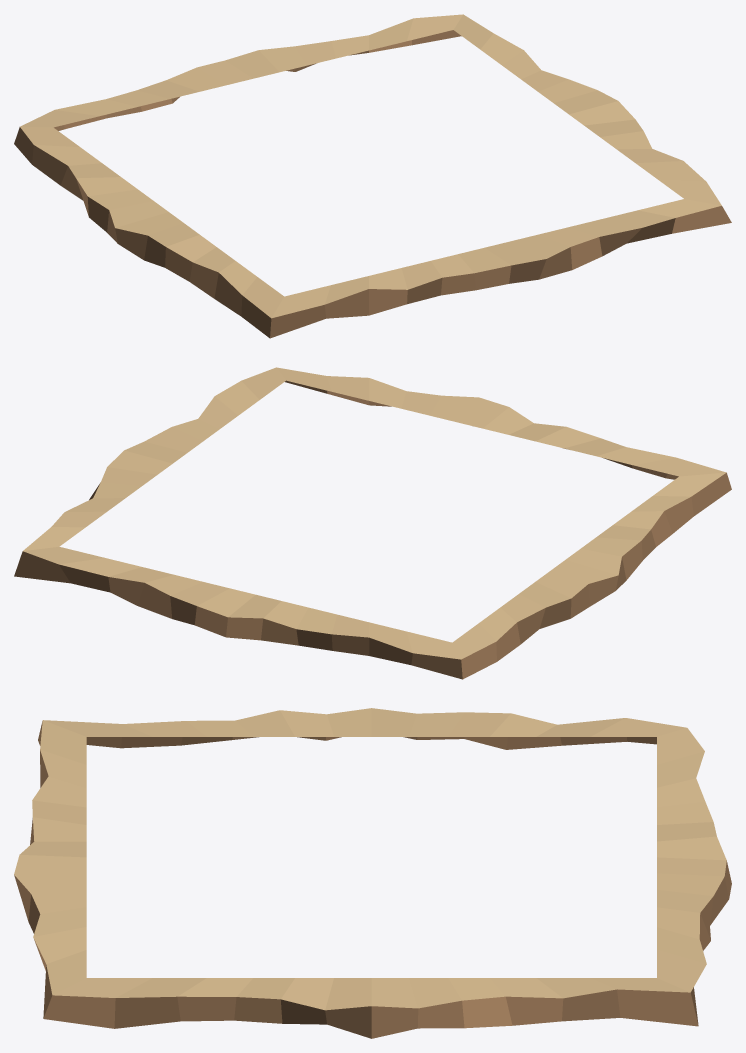
File: entorno_16.glb
3 renders of one model, top to bottom at view 1: azimuth 30°, elevation 25°; view 2: azimuth 150°, elevation 25°; view 3: azimuth 270°, elevation 25°, orthographic. The views are drawn at different scales.
Parts seen in each view (by area): view 1: deserto_entorno_16; view 2: deserto_entorno_16; view 3: deserto_entorno_16.
Part boxes in pixels (x1=…): deserto_entorno_16: x1=14, y1=14, x2=731, y2=338; deserto_entorno_16: x1=14, y1=367, x2=731, y2=679; deserto_entorno_16: x1=14, y1=708, x2=731, y2=1038.
Bounding box in the file's own units: 20.59 × 1.07 × 20.39.
